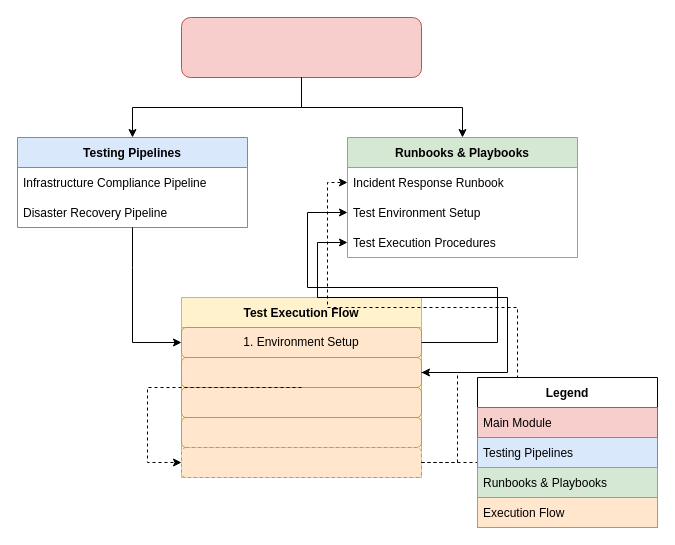
Image size: 675x545. Some labels were removed from this diagram. The centre of each missing label's shape, as x and y in pixels:
2. Test Execution: point (301, 372)
3. Results Analysis: point (301, 402)
4. Reporting: point (301, 432)
5. Incident Response (if needed): point (301, 462)
AWS Infrastructure Testing Module: point (301, 47)
